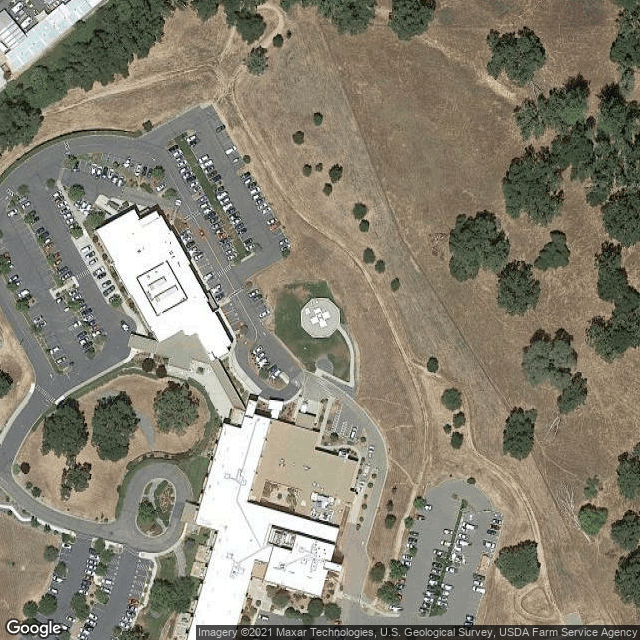Helipad: (298, 292, 342, 340)
